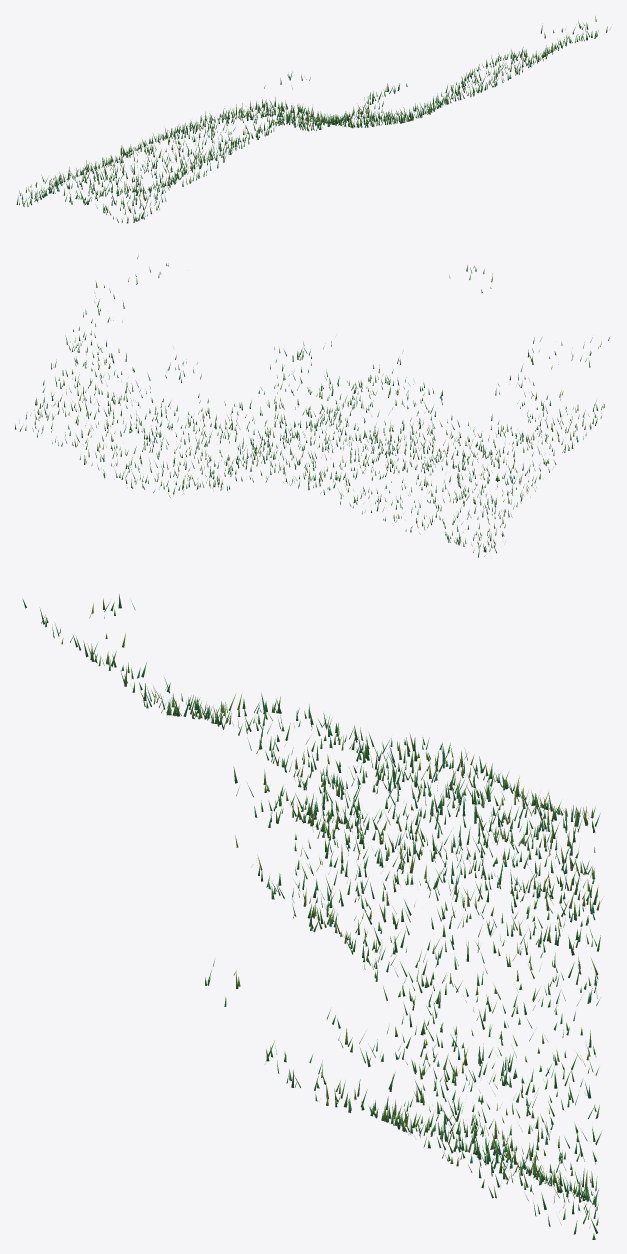
3 renders of one model, top to bottom at view 1: azimuth 30°, elevation 25°; view 2: azimuth 150°, elevation 25°; view 3: azimuth 270°, elevation 25°, orthographic. The views are drawn at different scales.
Parts seen in each view (by area): view 1: gc_62; view 2: gc_62; view 3: gc_62.
Part boxes in pixels (x1,y1,x2,y2): gc_62: (16, 16, 612, 223); gc_62: (15, 255, 610, 557); gc_62: (22, 594, 602, 1239).
Bounding box in the file's own units: 18.13 × 6.84 × 9.63.
1 material, 1 textured.
